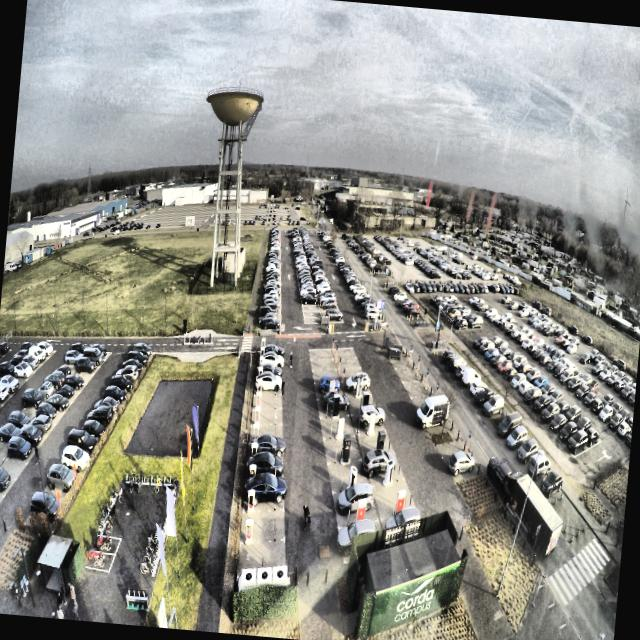cabinet: (241, 565, 286, 584)
car: (245, 474, 286, 504), (248, 452, 285, 477), (250, 433, 286, 457), (255, 371, 282, 392), (257, 350, 285, 369), (262, 343, 285, 359), (255, 363, 283, 374)
parking: (237, 538, 285, 578), (240, 508, 284, 543), (243, 483, 284, 511), (245, 461, 284, 485), (247, 441, 282, 464), (249, 424, 282, 443), (250, 408, 281, 426), (253, 378, 281, 395), (252, 394, 281, 409), (255, 366, 281, 381), (257, 349, 281, 359), (256, 358, 281, 367)
supercharger: (245, 520, 253, 543), (247, 490, 255, 512), (249, 464, 256, 480), (251, 443, 258, 459), (253, 425, 259, 441), (254, 408, 259, 425), (256, 379, 262, 393), (256, 392, 260, 408), (258, 367, 263, 378), (260, 338, 265, 348), (259, 356, 263, 365), (260, 348, 264, 357)
